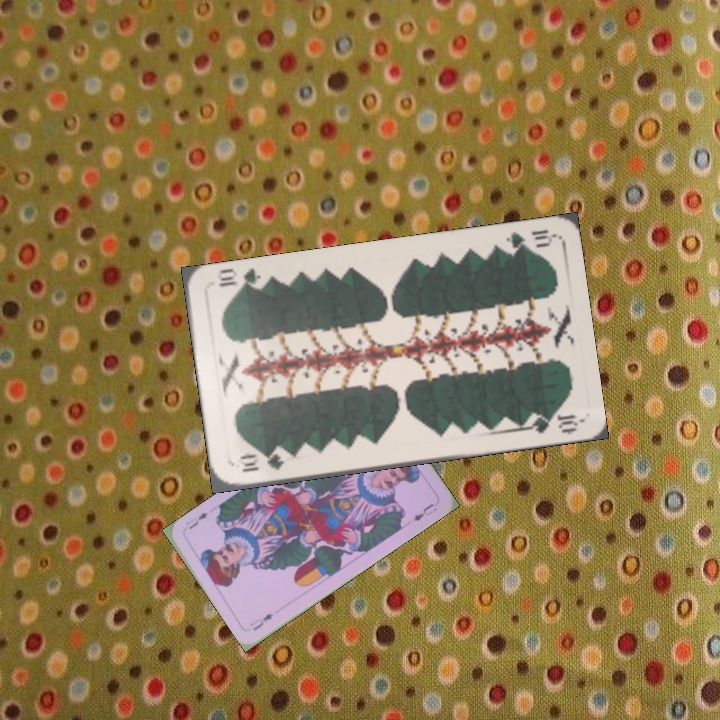EU: (246, 609, 276, 633)
G10: (496, 225, 555, 256), (234, 449, 287, 475)
